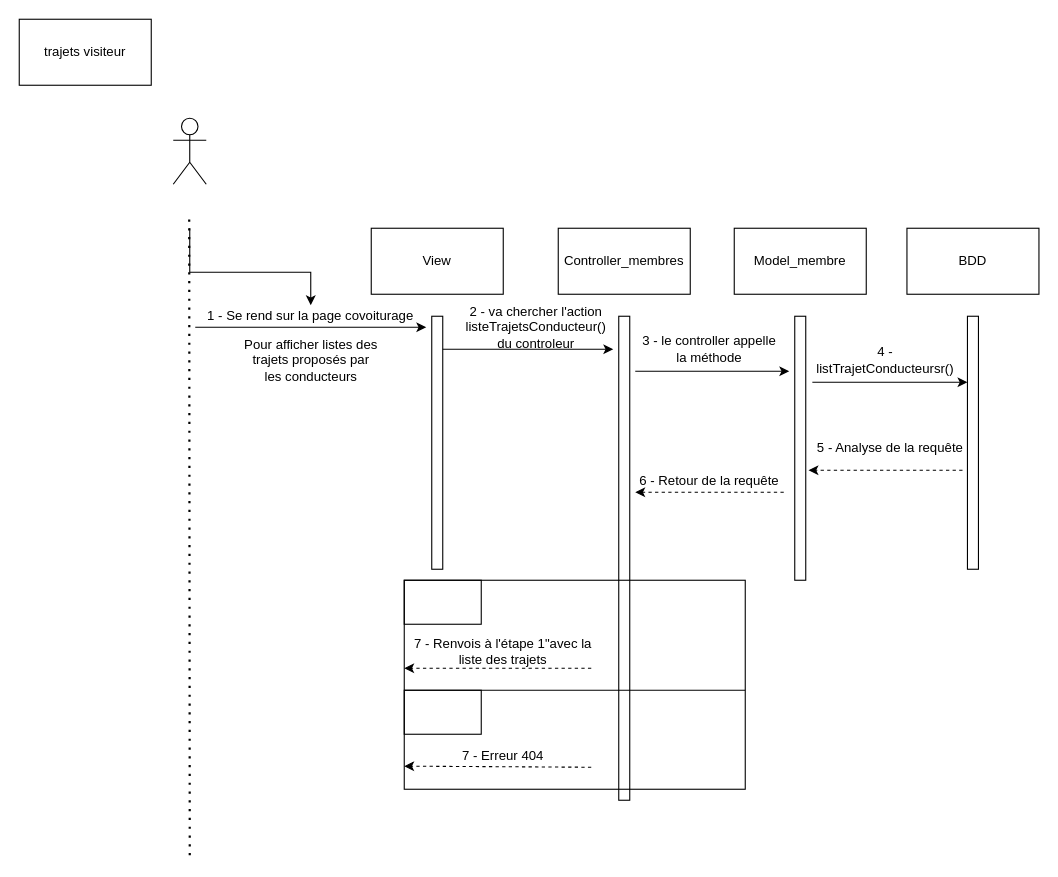
Image size: 1058x877. Some labels were removed from this diagram. The shapes that lost their labels are listed below. From the top down, each one's box as (x1, y1, x2, y2) in pixels, then its label:
(172, 117, 206, 184): visiteur
(403, 579, 481, 624): True
(403, 689, 481, 734): False
